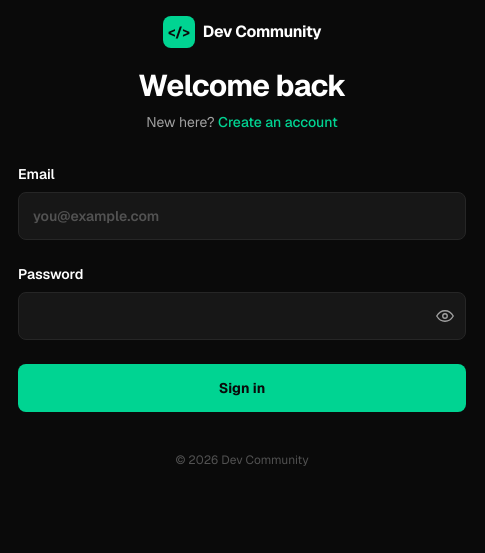
Scenario: LoginForm with the real mutation hook › shows the server's message and stays put when the login is rejected
Type "ada@example.com" into the field labelled "Email".
click(242, 216); type("ada@example.com")  # box [18, 192, 466, 240]
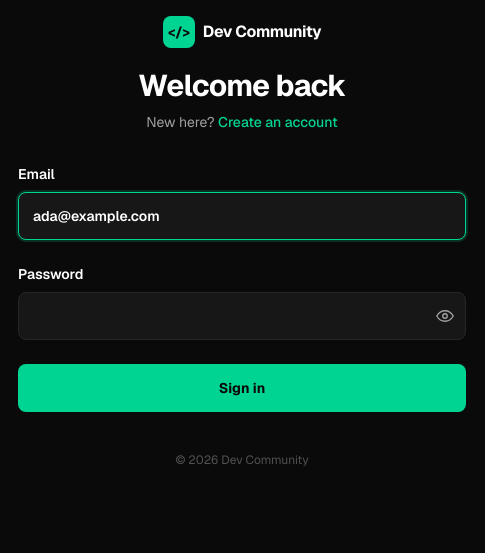
Type "secret" into the password field labelled "Password".
click(242, 316); type("secret")  # box [18, 292, 466, 340]
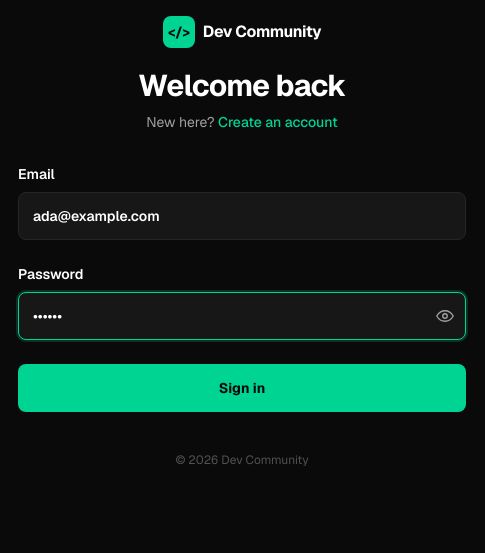
Click the button "Sign in".
click(242, 388)  # box [18, 364, 466, 412]
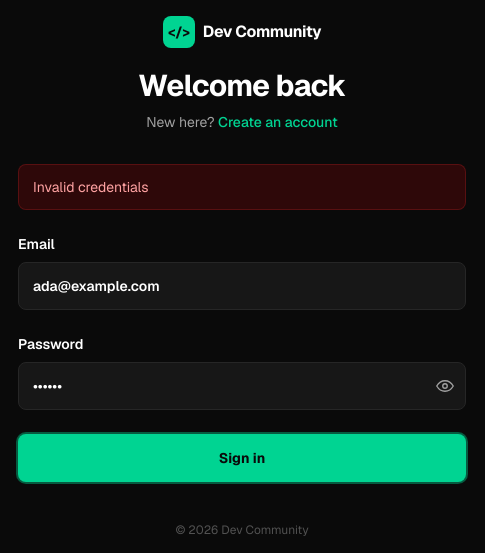
Now the message reads "Invalid credentials", box [33, 178, 148, 196]
